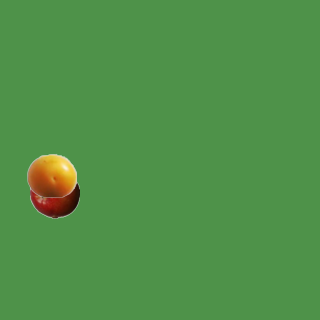Apple Braeburn: (29, 168, 79, 218)
Cherry Wax Yellow: (26, 150, 76, 200)
